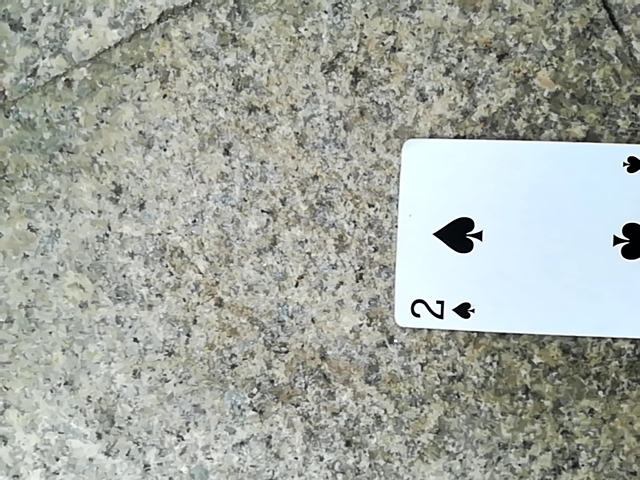ht 2: (394, 149, 640, 350)
